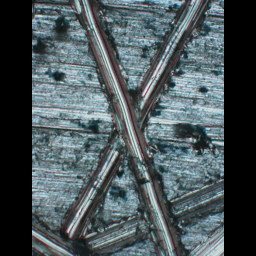d: (65, 0, 219, 255)
